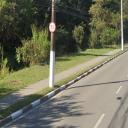speed_limit_50: (49, 22, 56, 34)
